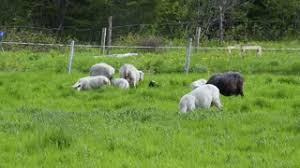sheep: (178, 82, 221, 115), (70, 73, 111, 99), (208, 69, 246, 97), (120, 61, 148, 91), (92, 59, 119, 82), (112, 76, 132, 98)
